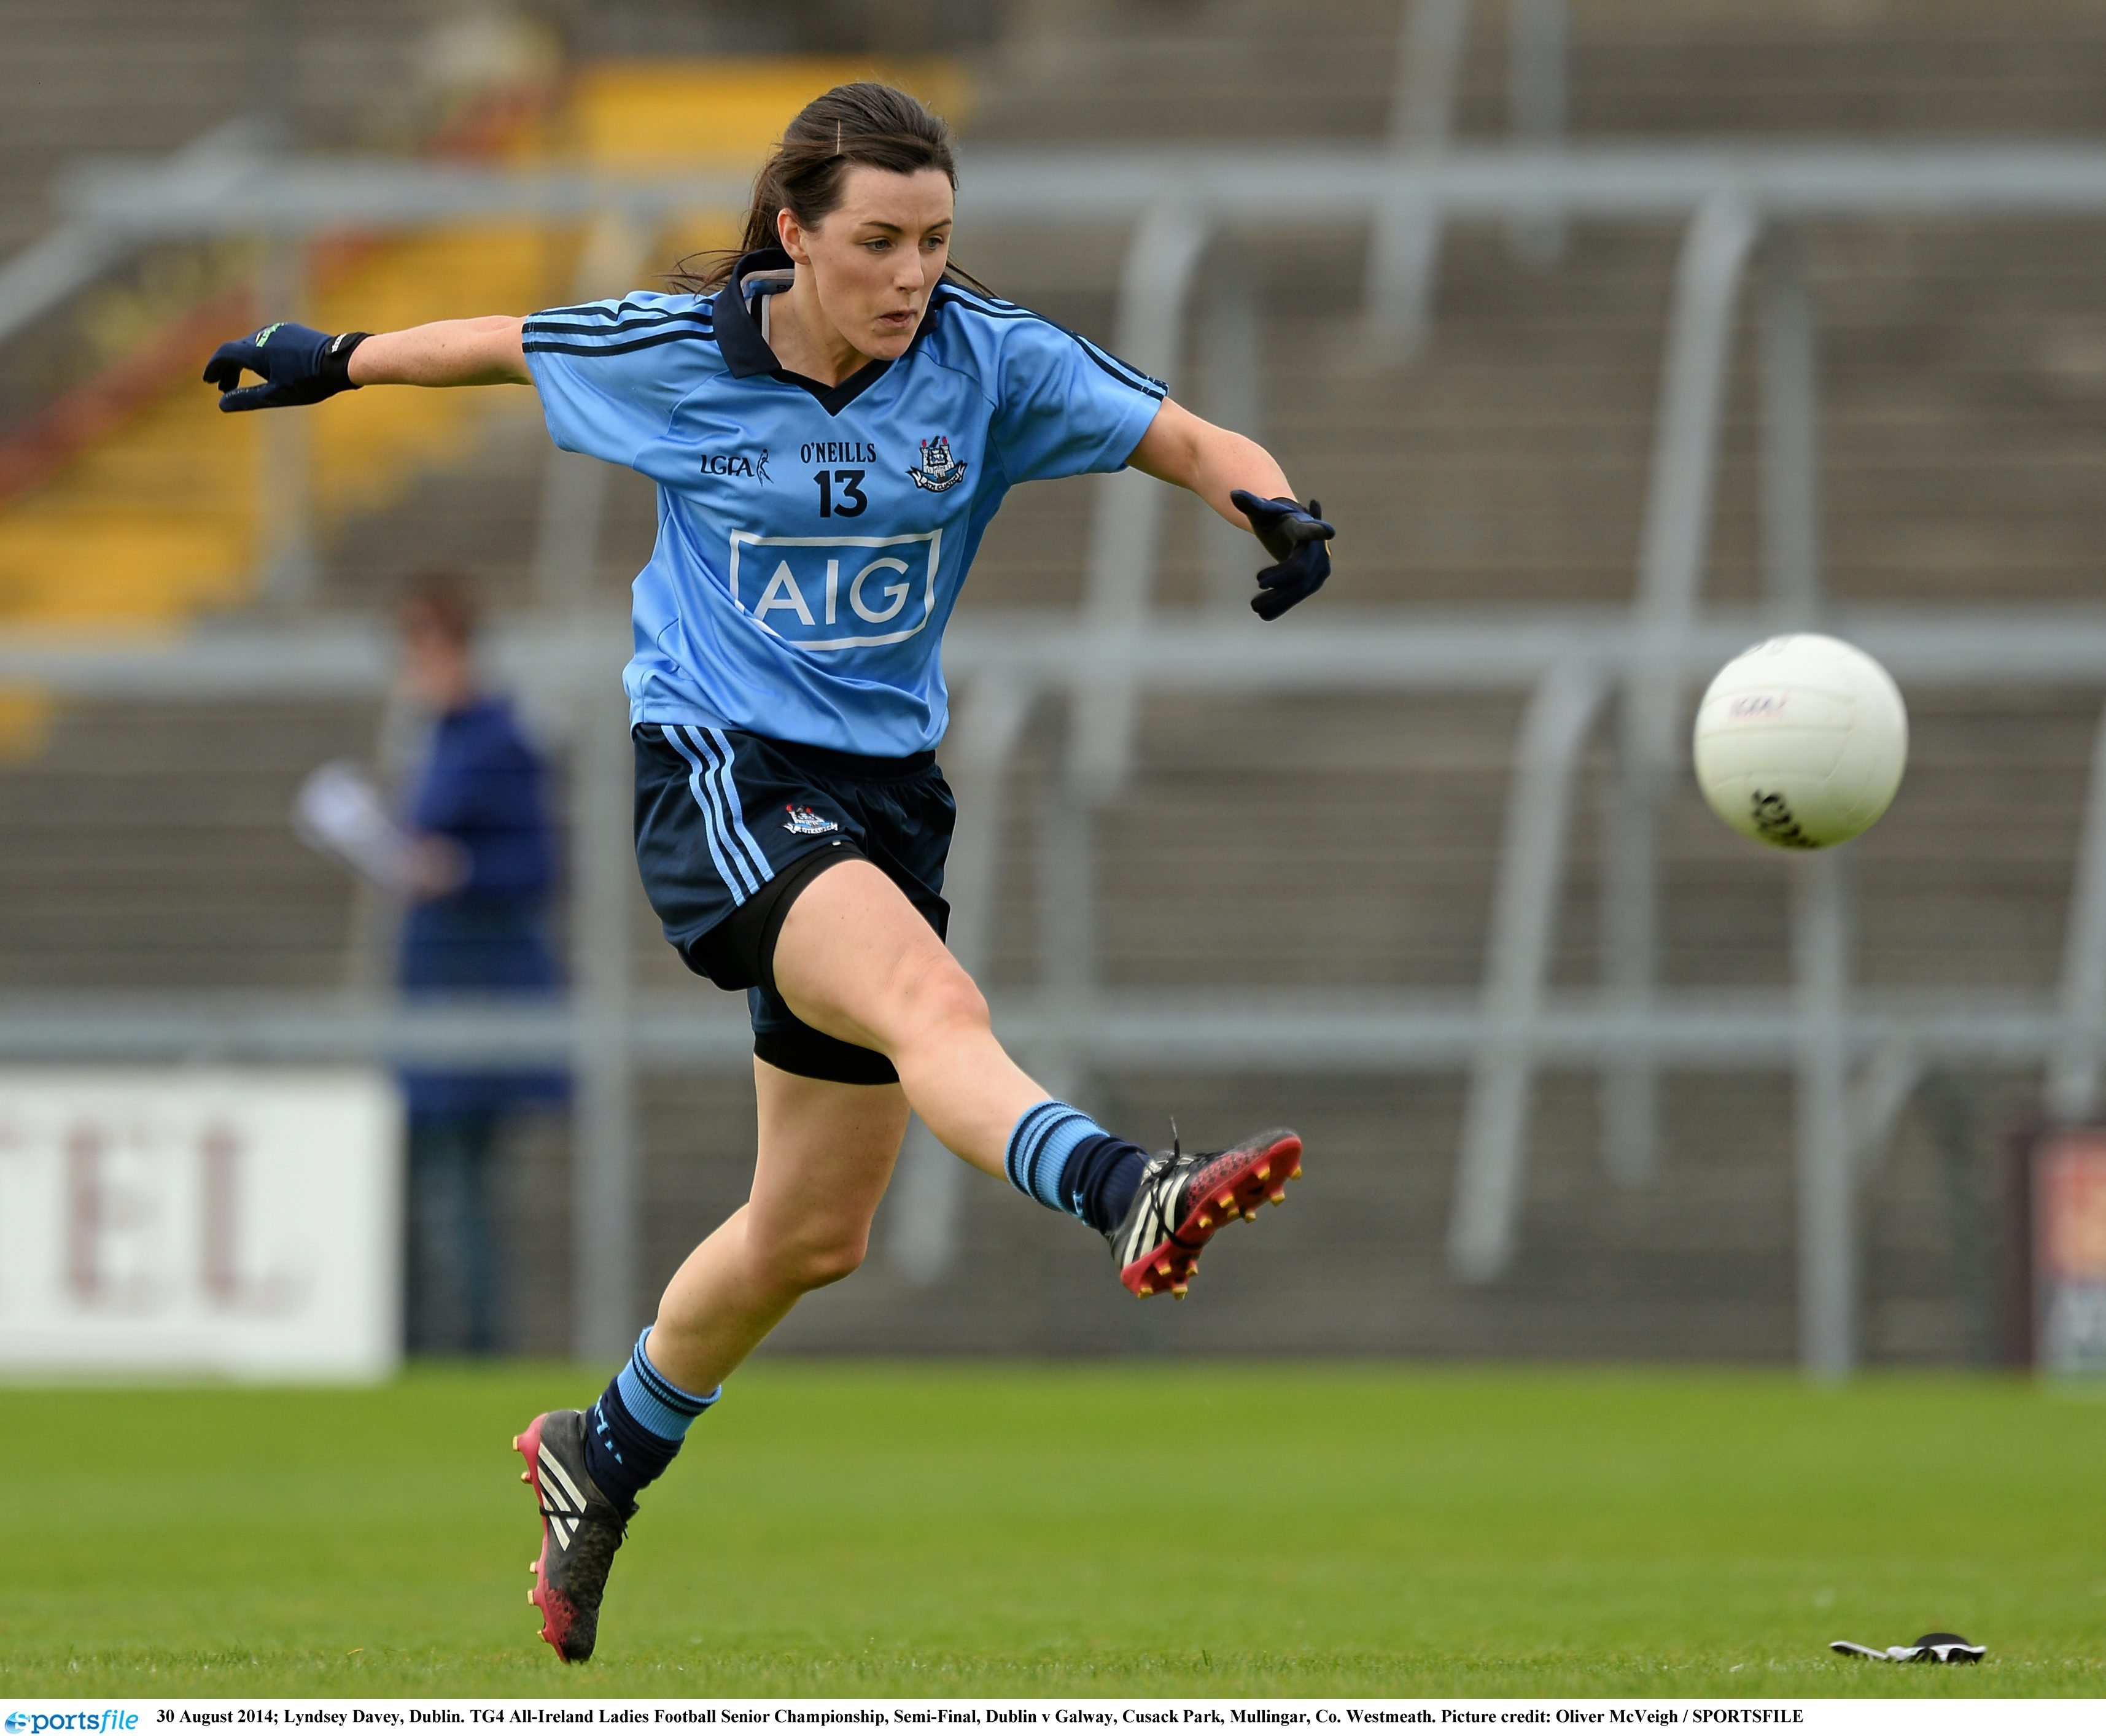ball: (1704, 651, 1890, 831)
player: (612, 52, 1211, 1354)
